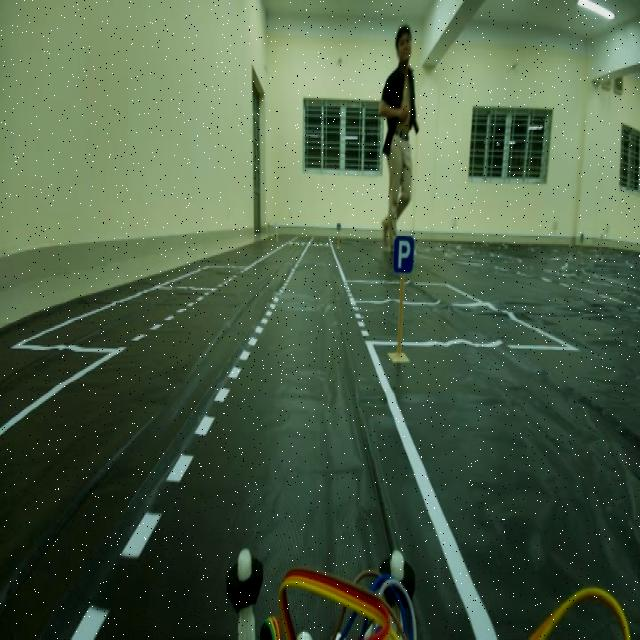parking: (390, 232, 418, 281)
